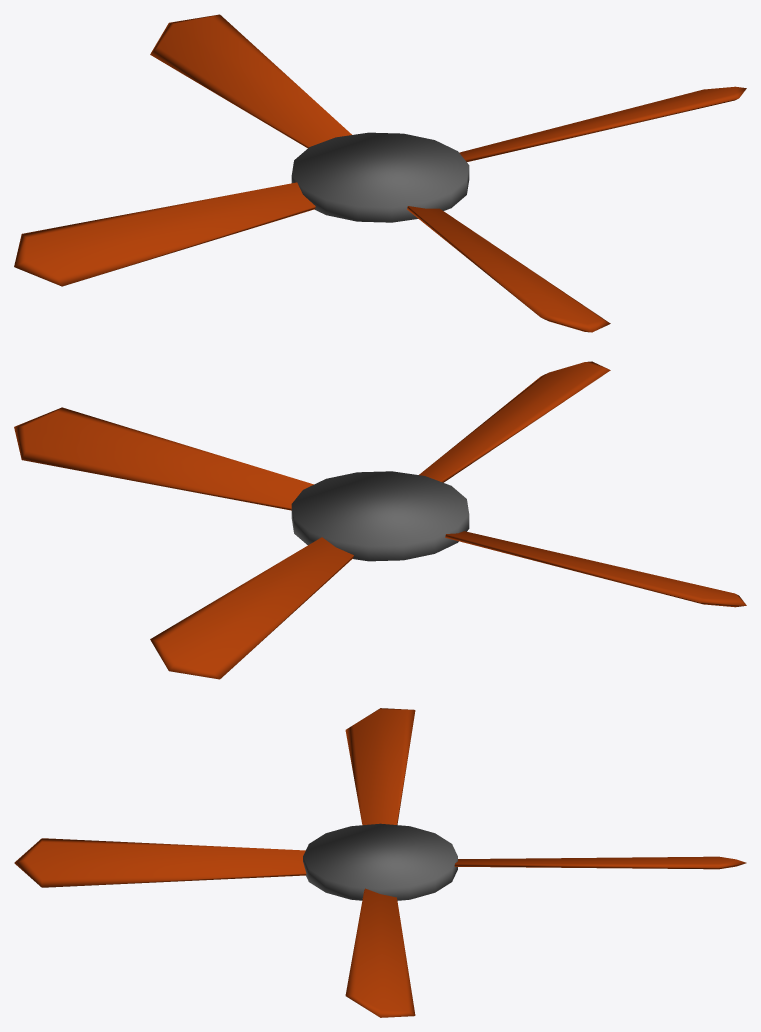
3 renders of one model, top to bottom at view 1: azimuth 30°, elevation 25°; view 2: azimuth 150°, elevation 25°; view 3: azimuth 270°, elevation 25°, orthographic. The views are drawn at different scales.
Parts seen in each view (by area): view 1: cube1_Fan_Blade, cube1_Fan_Rotor; view 2: cube1_Fan_Blade, cube1_Fan_Rotor; view 3: cube1_Fan_Blade, cube1_Fan_Rotor.
Boxes of the visible parts, x1=… form: cube1_Fan_Blade: x1=14, y1=14, x2=746, y2=332; cube1_Fan_Rotor: x1=291, y1=132, x2=469, y2=222; cube1_Fan_Blade: x1=14, y1=361, x2=746, y2=679; cube1_Fan_Rotor: x1=291, y1=471, x2=469, y2=561; cube1_Fan_Blade: x1=14, y1=708, x2=746, y2=1017; cube1_Fan_Rotor: x1=303, y1=823, x2=457, y2=900.
Bounding box in the file's own units: 19.96 × 0.6021 × 19.96.
